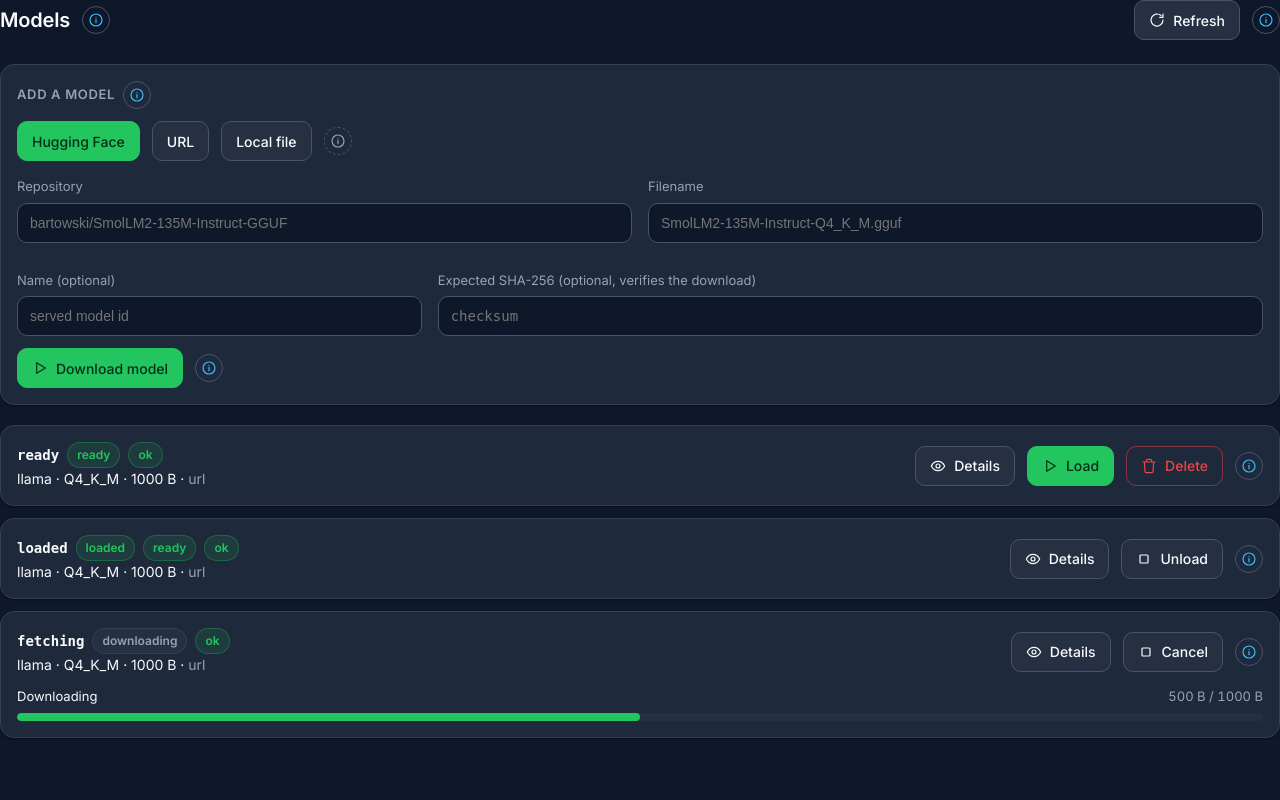
it: Models with feature switches › reports an authorization 403 as such, never as a disabled feature
Expected: the 1st text "ready" is shown, [17,444,59,466]
Click the button "Load": (1070, 466) [1027,446,1114,486]
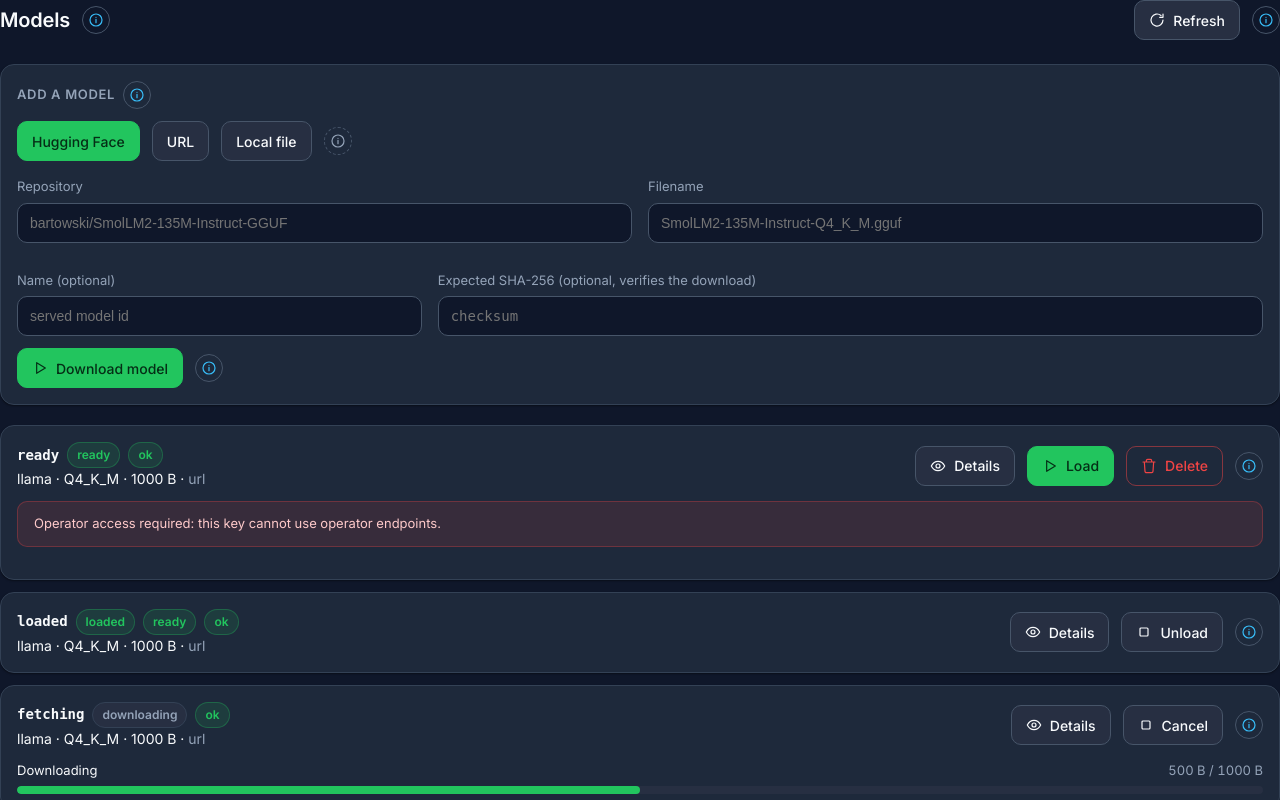
Result: the text "Operator access required: this key cannot use operator endpoints." is shown at [17,501,1263,546]
